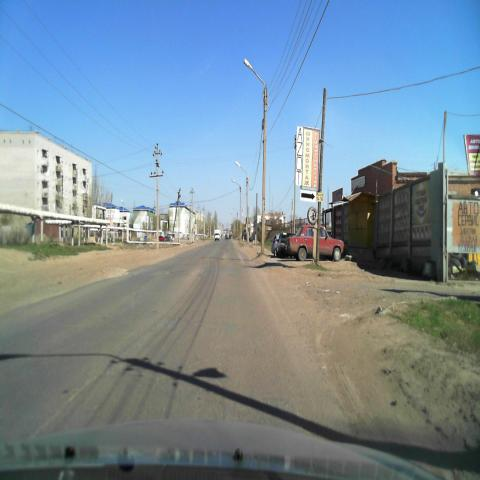8_3_1: (300, 190, 317, 202)
